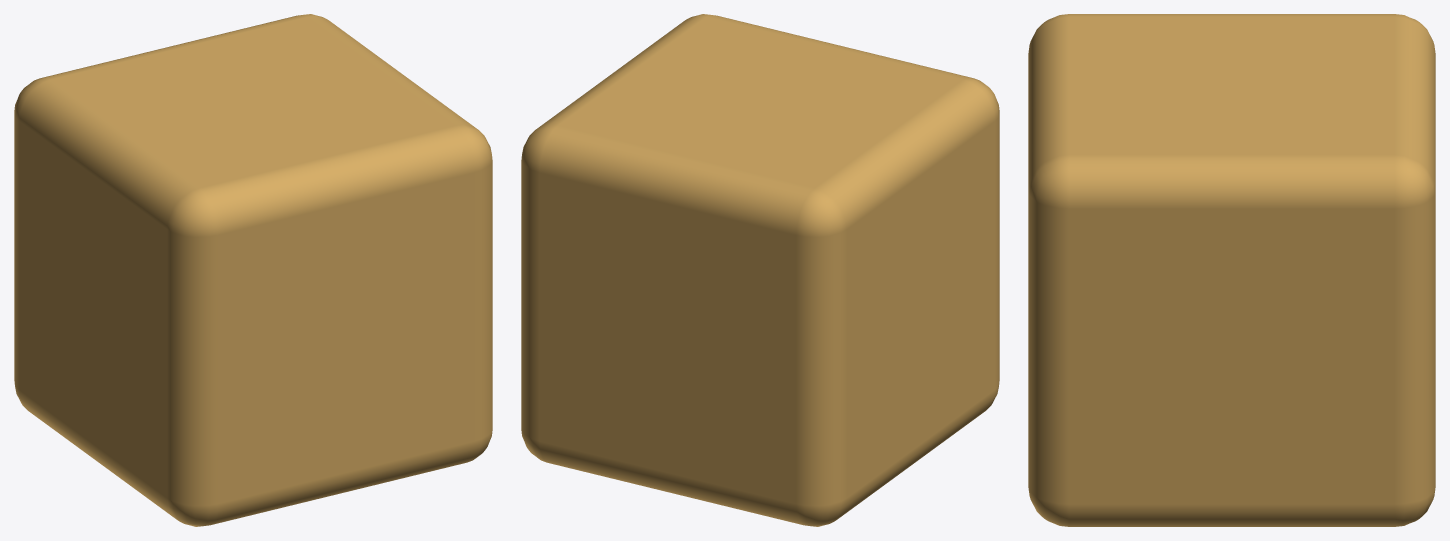
The model's file is brass.gltf.
The picture shows the model from 3 angles, left to right: view 1: azimuth 30°, elevation 25°; view 2: azimuth 150°, elevation 25°; view 3: azimuth 270°, elevation 25°; orthographic projection. The views are drawn at different scales.
Visible parts, largest first — view 1: brass; view 2: brass; view 3: brass.
Part boxes in pixels (left/top/right/bottom): brass: left=14, top=14, right=492, bottom=526; brass: left=521, top=14, right=999, bottom=526; brass: left=1028, top=14, right=1435, bottom=526.
Bounding box in the file's own units: 1 × 1 × 1.
